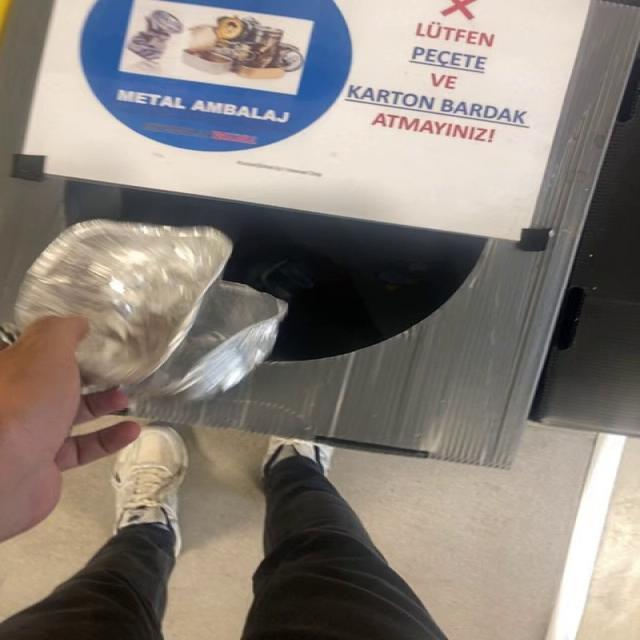Metal: (15, 220, 287, 400)
